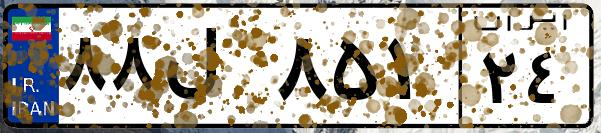1: (385, 28, 445, 110)
2: (475, 38, 525, 113)
4: (525, 38, 570, 115)
5: (330, 28, 385, 110)
8: (270, 28, 330, 110), (57, 26, 110, 100), (110, 28, 158, 98)
ل: (158, 20, 270, 120)
